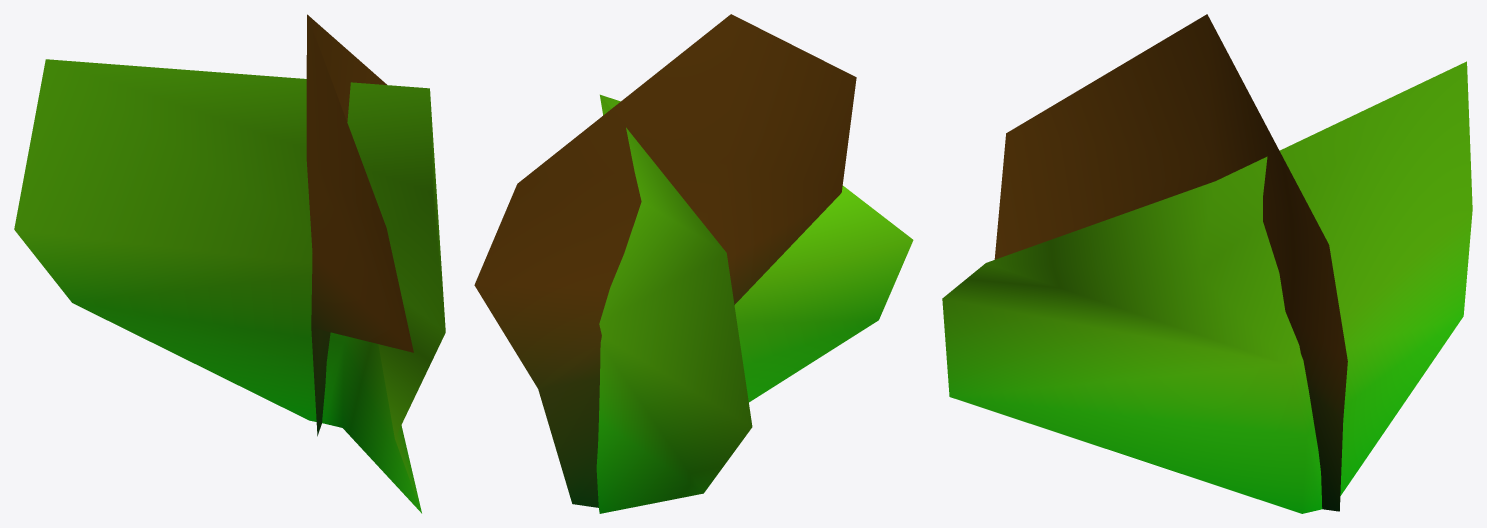
Rendered from Var1Hi33.fbx.
3 renders of one model, left to right at view 1: azimuth 30°, elevation 25°; view 2: azimuth 150°, elevation 25°; view 3: azimuth 270°, elevation 25°, orthographic. The views are drawn at different scales.
Visible parts, largest first — view 1: bend1; view 2: bend1; view 3: bend1.
Boxes of the visible parts, box(x1,y1,x2,y2) form: bend1: box(14, 14, 445, 513); bend1: box(474, 14, 913, 513); bend1: box(942, 14, 1472, 513).
Bounding box in the file's own units: 1.04 × 1.38 × 1.42.
